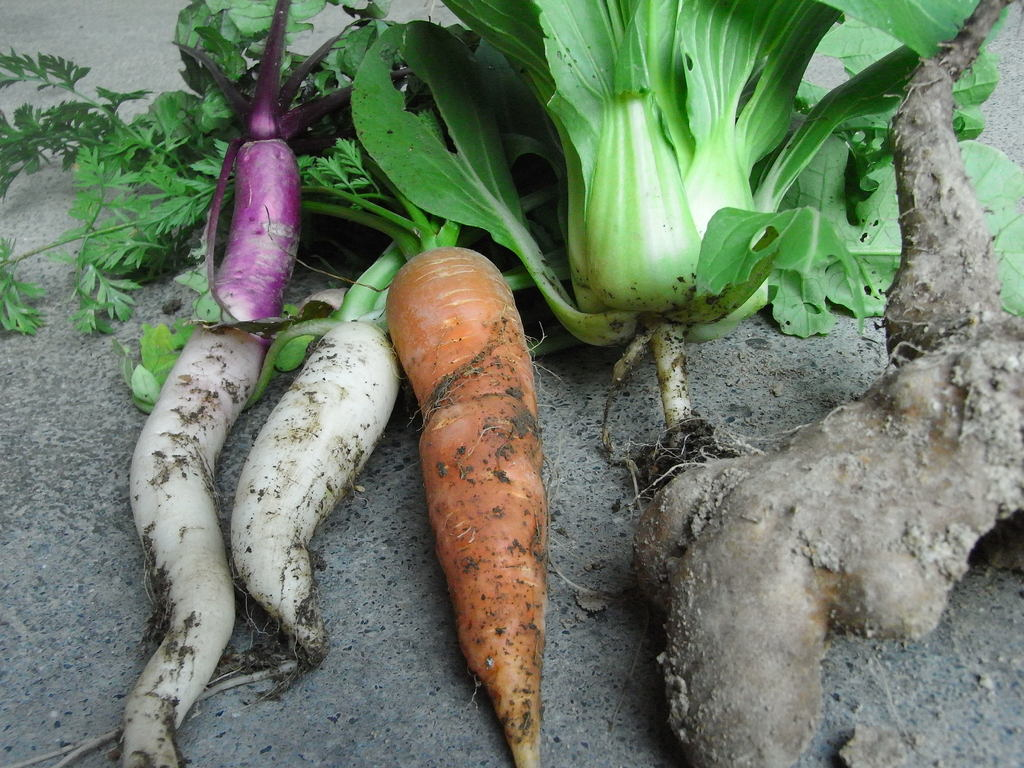Carrot: (380, 240, 570, 767)
